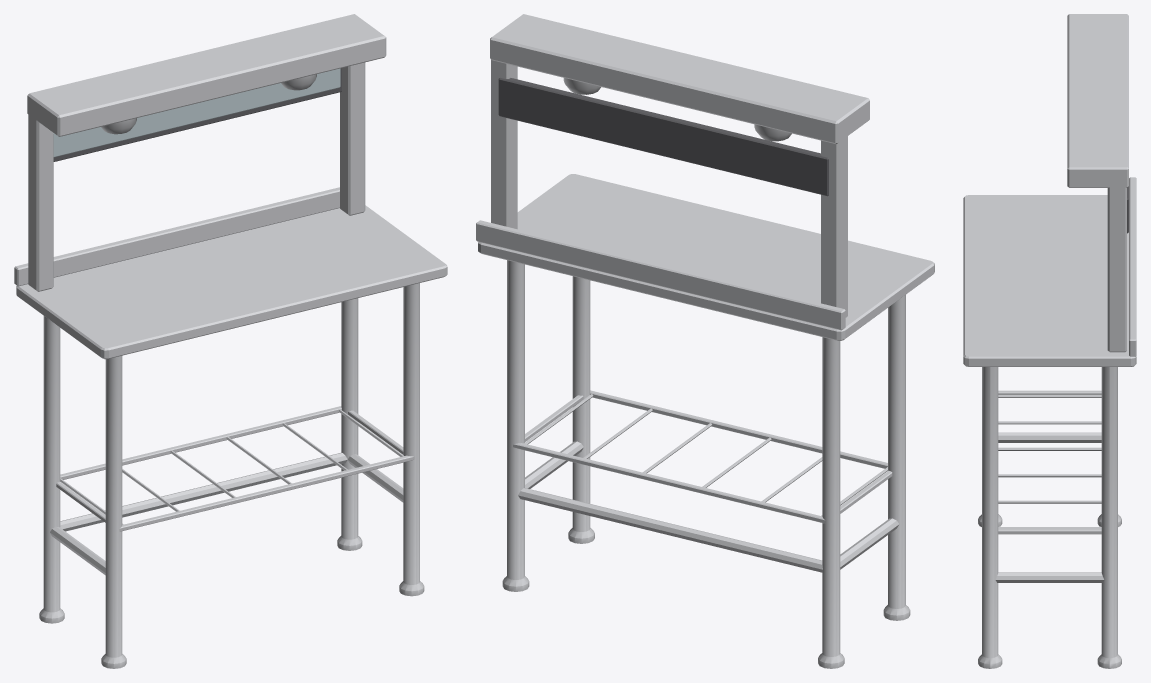
The model's file is fast-food-and-drive-thru-order-collection-shelf-16dd62d7__16112.glb.
3 renders of one model, left to right at view 1: azimuth 30°, elevation 25°; view 2: azimuth 150°, elevation 25°; view 3: azimuth 270°, elevation 25°, orthographic. The views are drawn at different scales.
Parts seen in each view (by area): view 1: order-collection-shelf; view 2: order-collection-shelf; view 3: order-collection-shelf.
Part boxes in pixels (left/top/right/bottom): order-collection-shelf: left=14, top=14, right=447, bottom=668; order-collection-shelf: left=476, top=14, right=934, bottom=668; order-collection-shelf: left=963, top=14, right=1136, bottom=668.
Bounding box in the file's own units: 1 × 1.44 × 0.4501.
